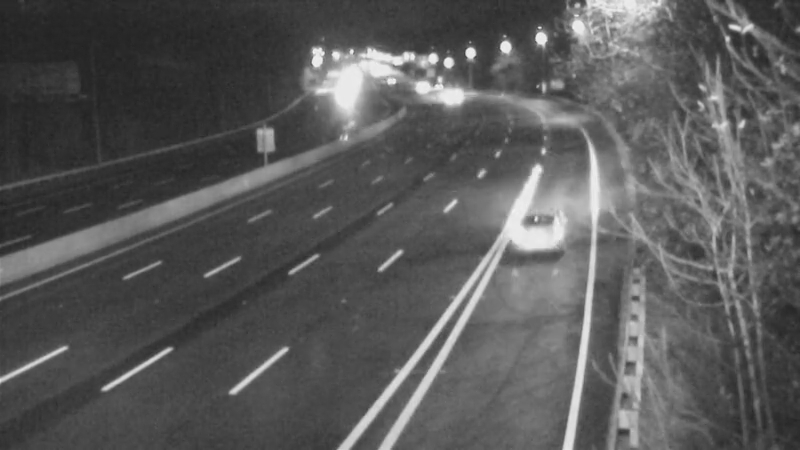vehicle: (503, 197, 583, 277), (364, 53, 414, 103), (413, 65, 463, 115), (396, 61, 446, 111), (423, 72, 473, 122)
